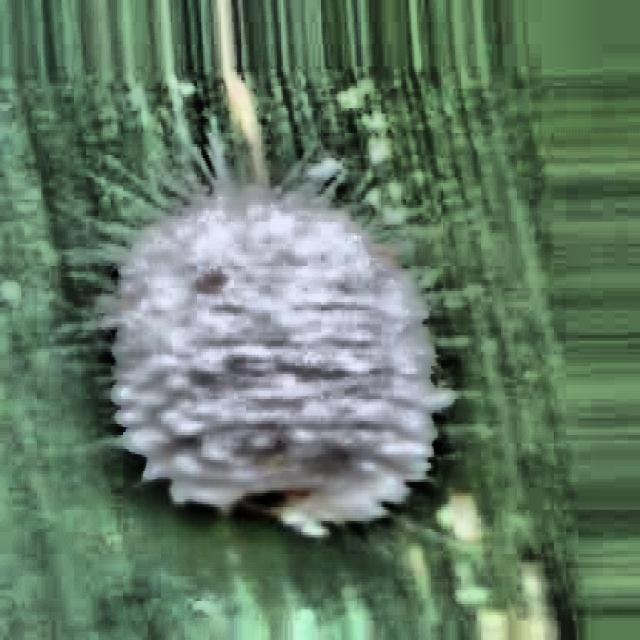Mealy-bug: (89, 156, 462, 550)
